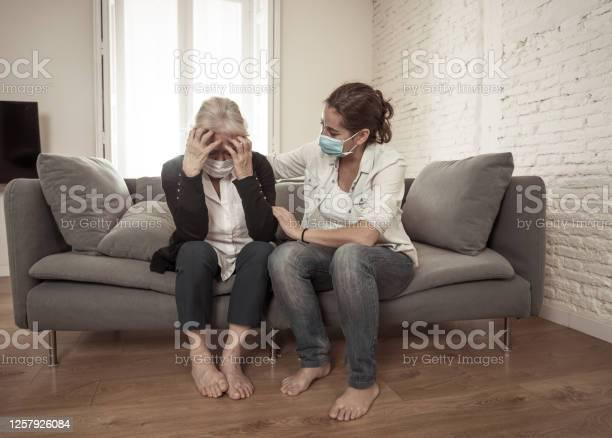OK: (317, 106, 364, 159), (199, 139, 238, 182)
